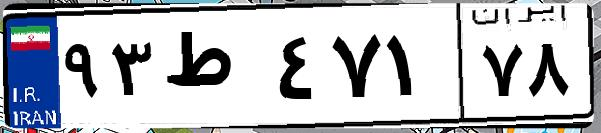1: (385, 28, 445, 110)
3: (110, 28, 158, 98)
4: (270, 28, 330, 110)
7: (330, 28, 385, 110), (475, 38, 525, 113)
8: (525, 38, 570, 115)
9: (57, 26, 110, 100)
ط: (158, 20, 270, 120)
